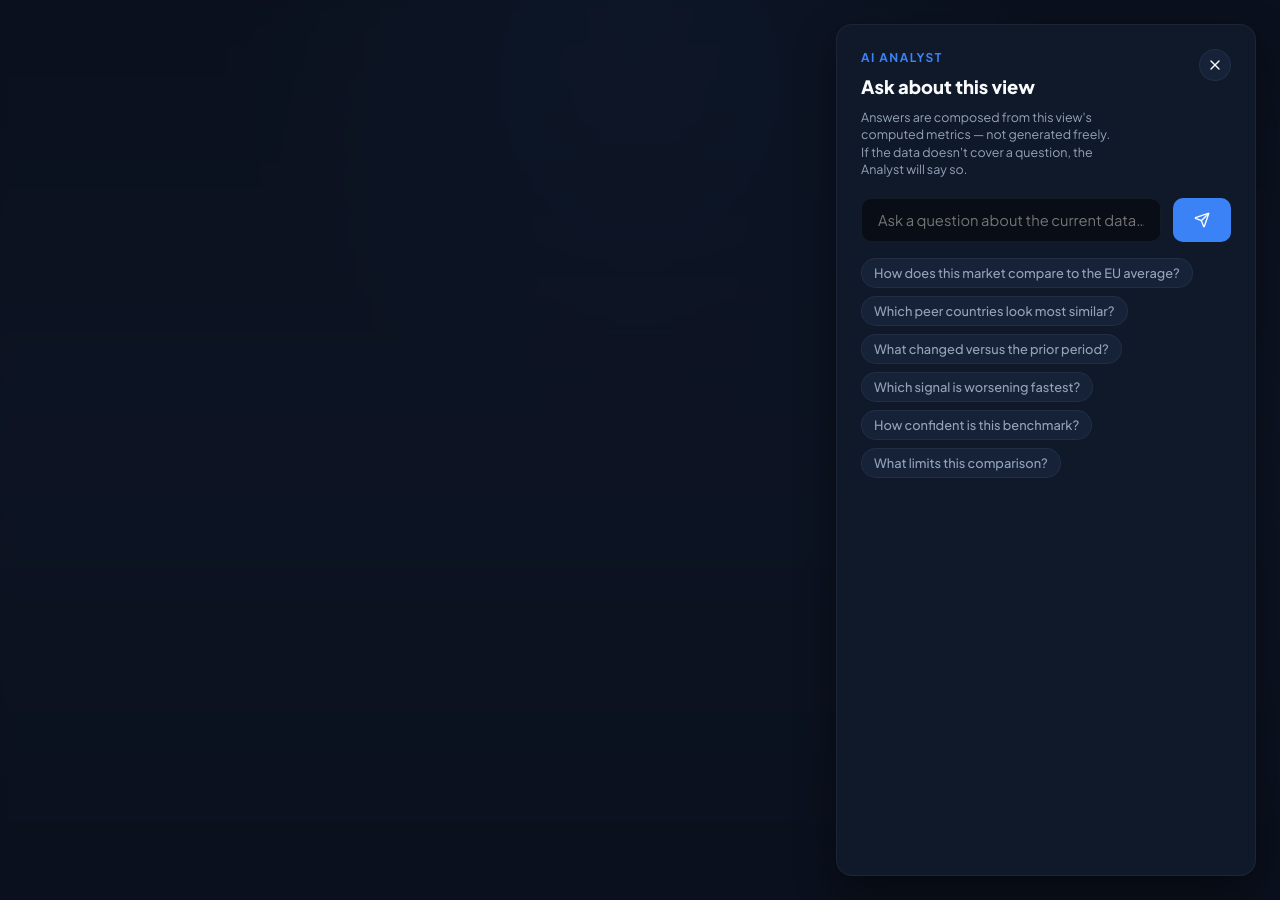
Test: CopilotPanel › submits typed question and shows API response
Type "What is the unemployment rate?" into the field with placeholder "Ask a question about the current data…" at (1011, 220), box 861,198 -> 1161,242
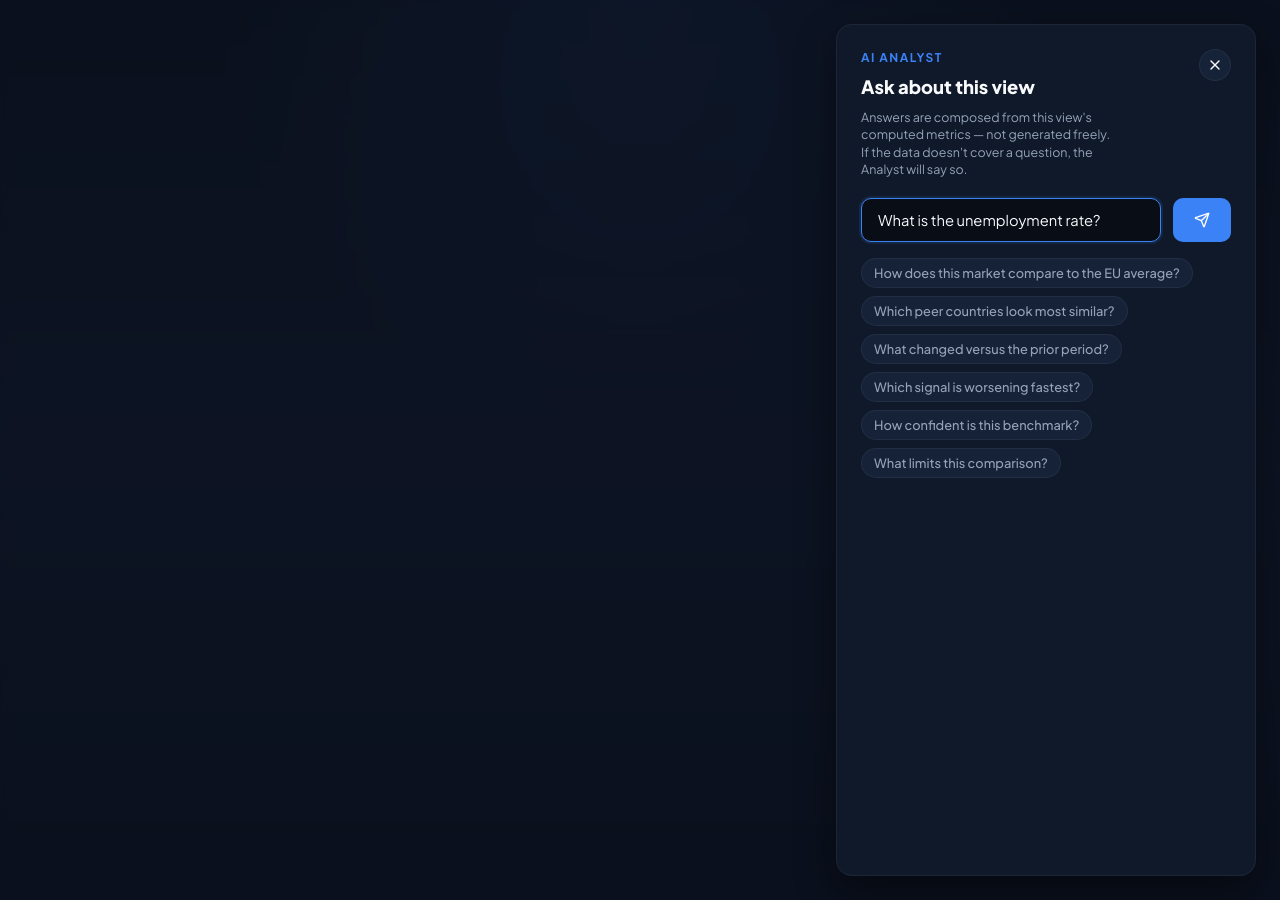
Press Enter
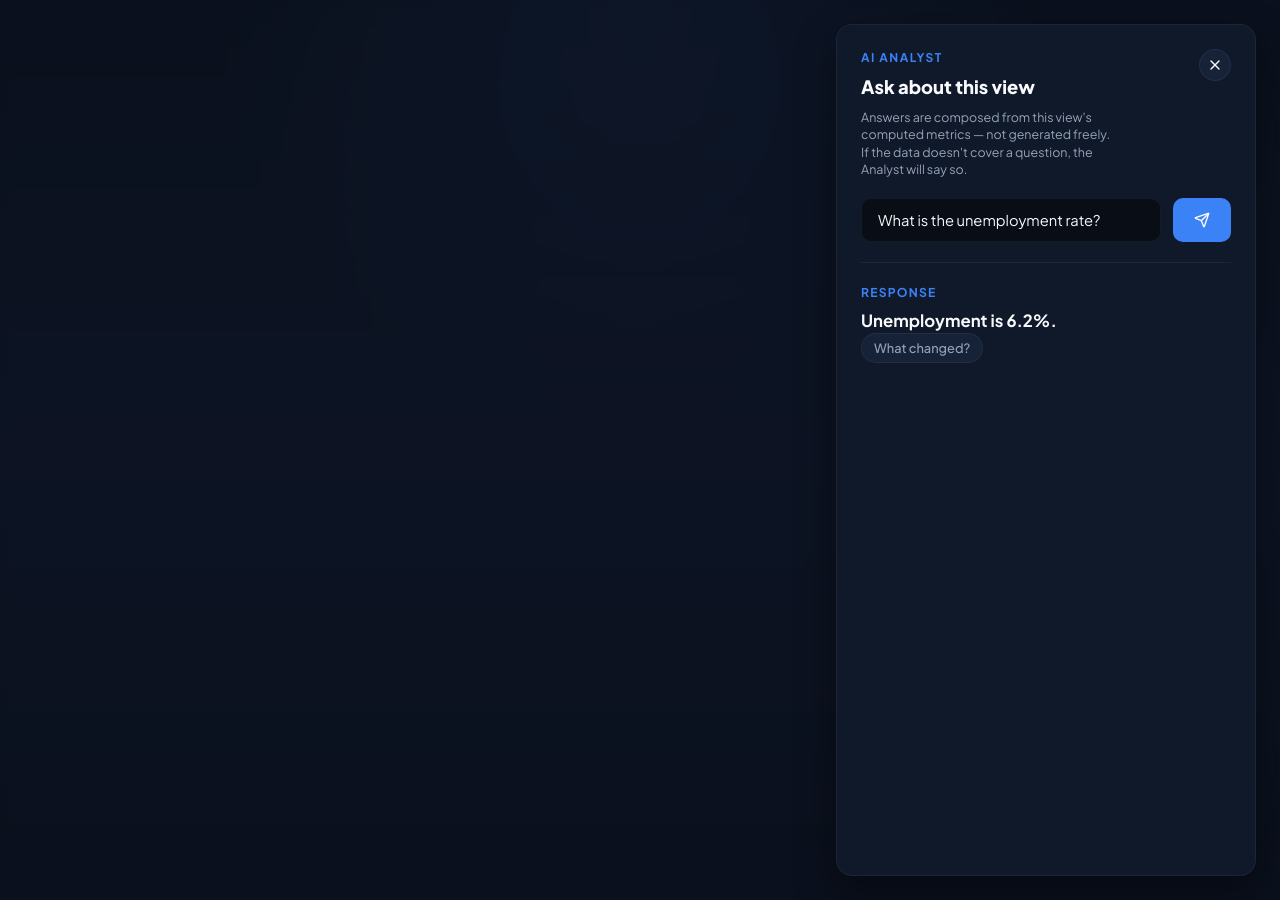
Expected: the heading "Unemployment is 6.2%." is shown, 861,310 -> 1057,331
Expected: the text "Response" is shown, 861,284 -> 936,300
